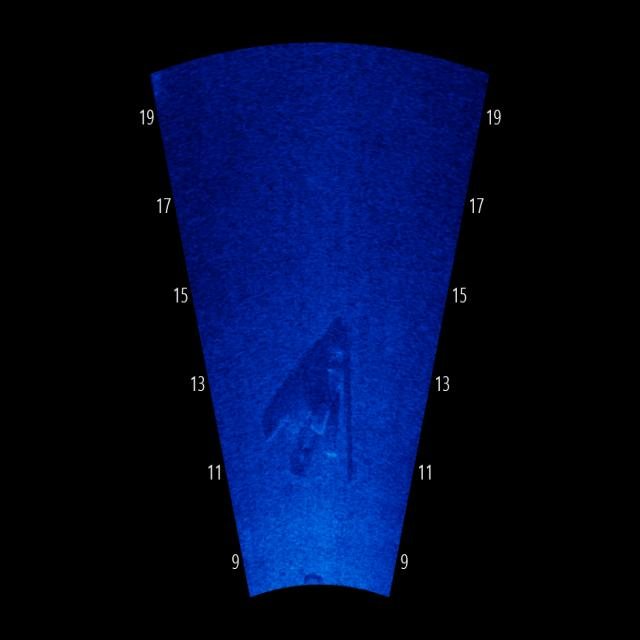triangle: (259, 312, 365, 488)
